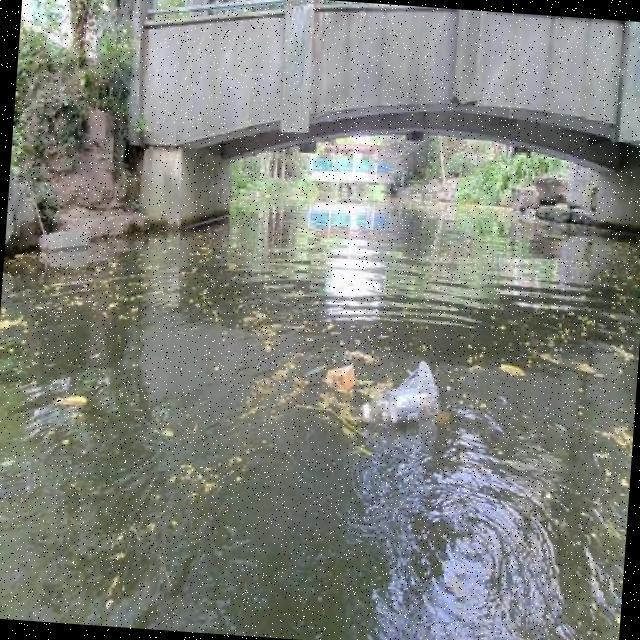Waste: (366, 362, 451, 434)
